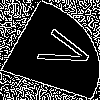V: (25, 24, 97, 74)
